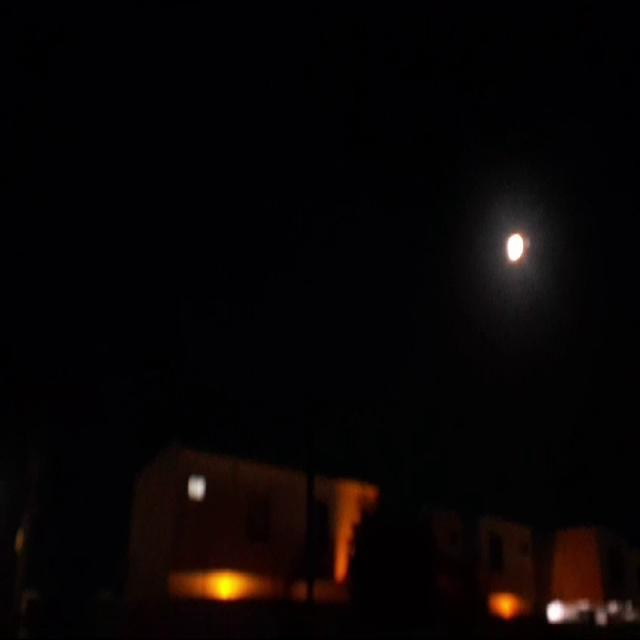moon: (502, 229, 526, 263)
